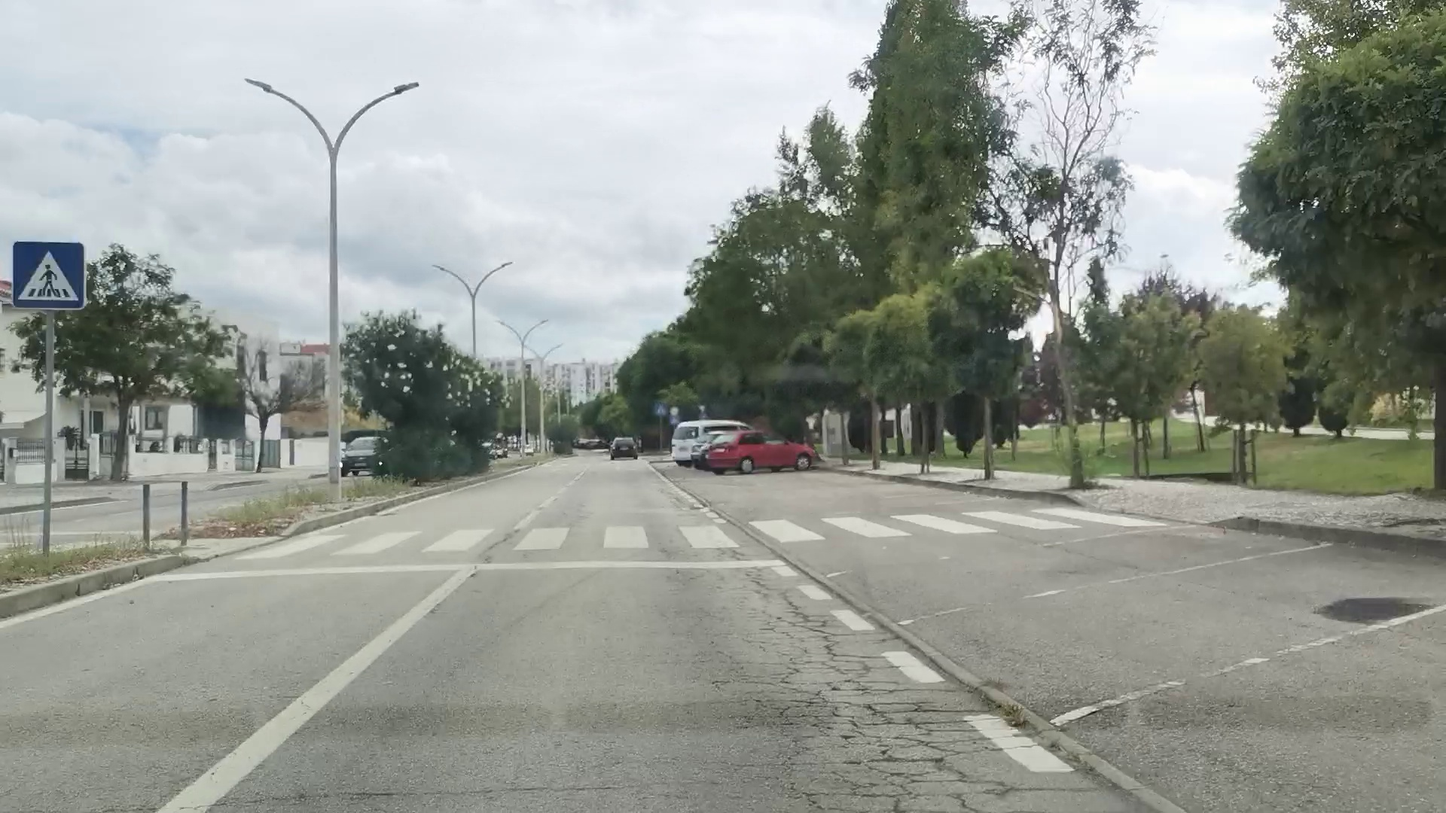Stairs: (250, 507, 1165, 565)
